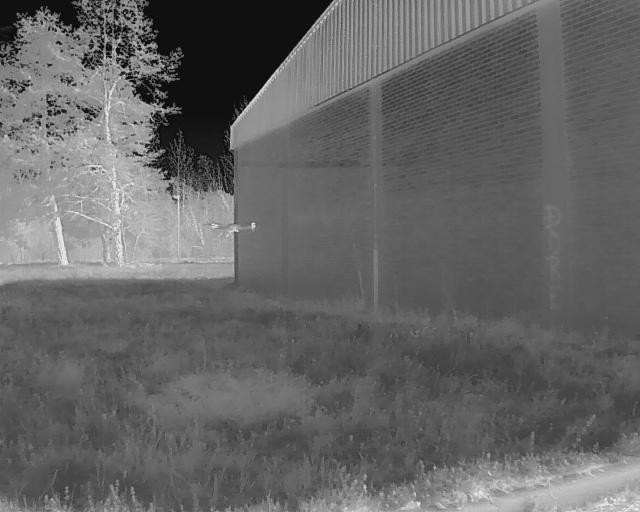drone: (201, 211, 265, 244)
